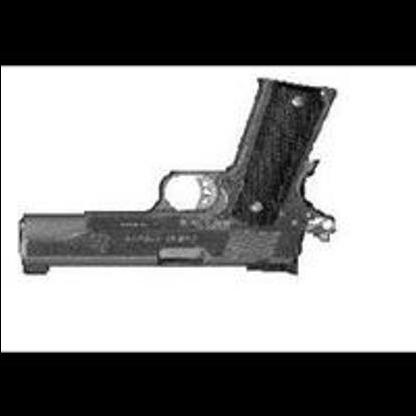weapon: (9, 75, 343, 278)
